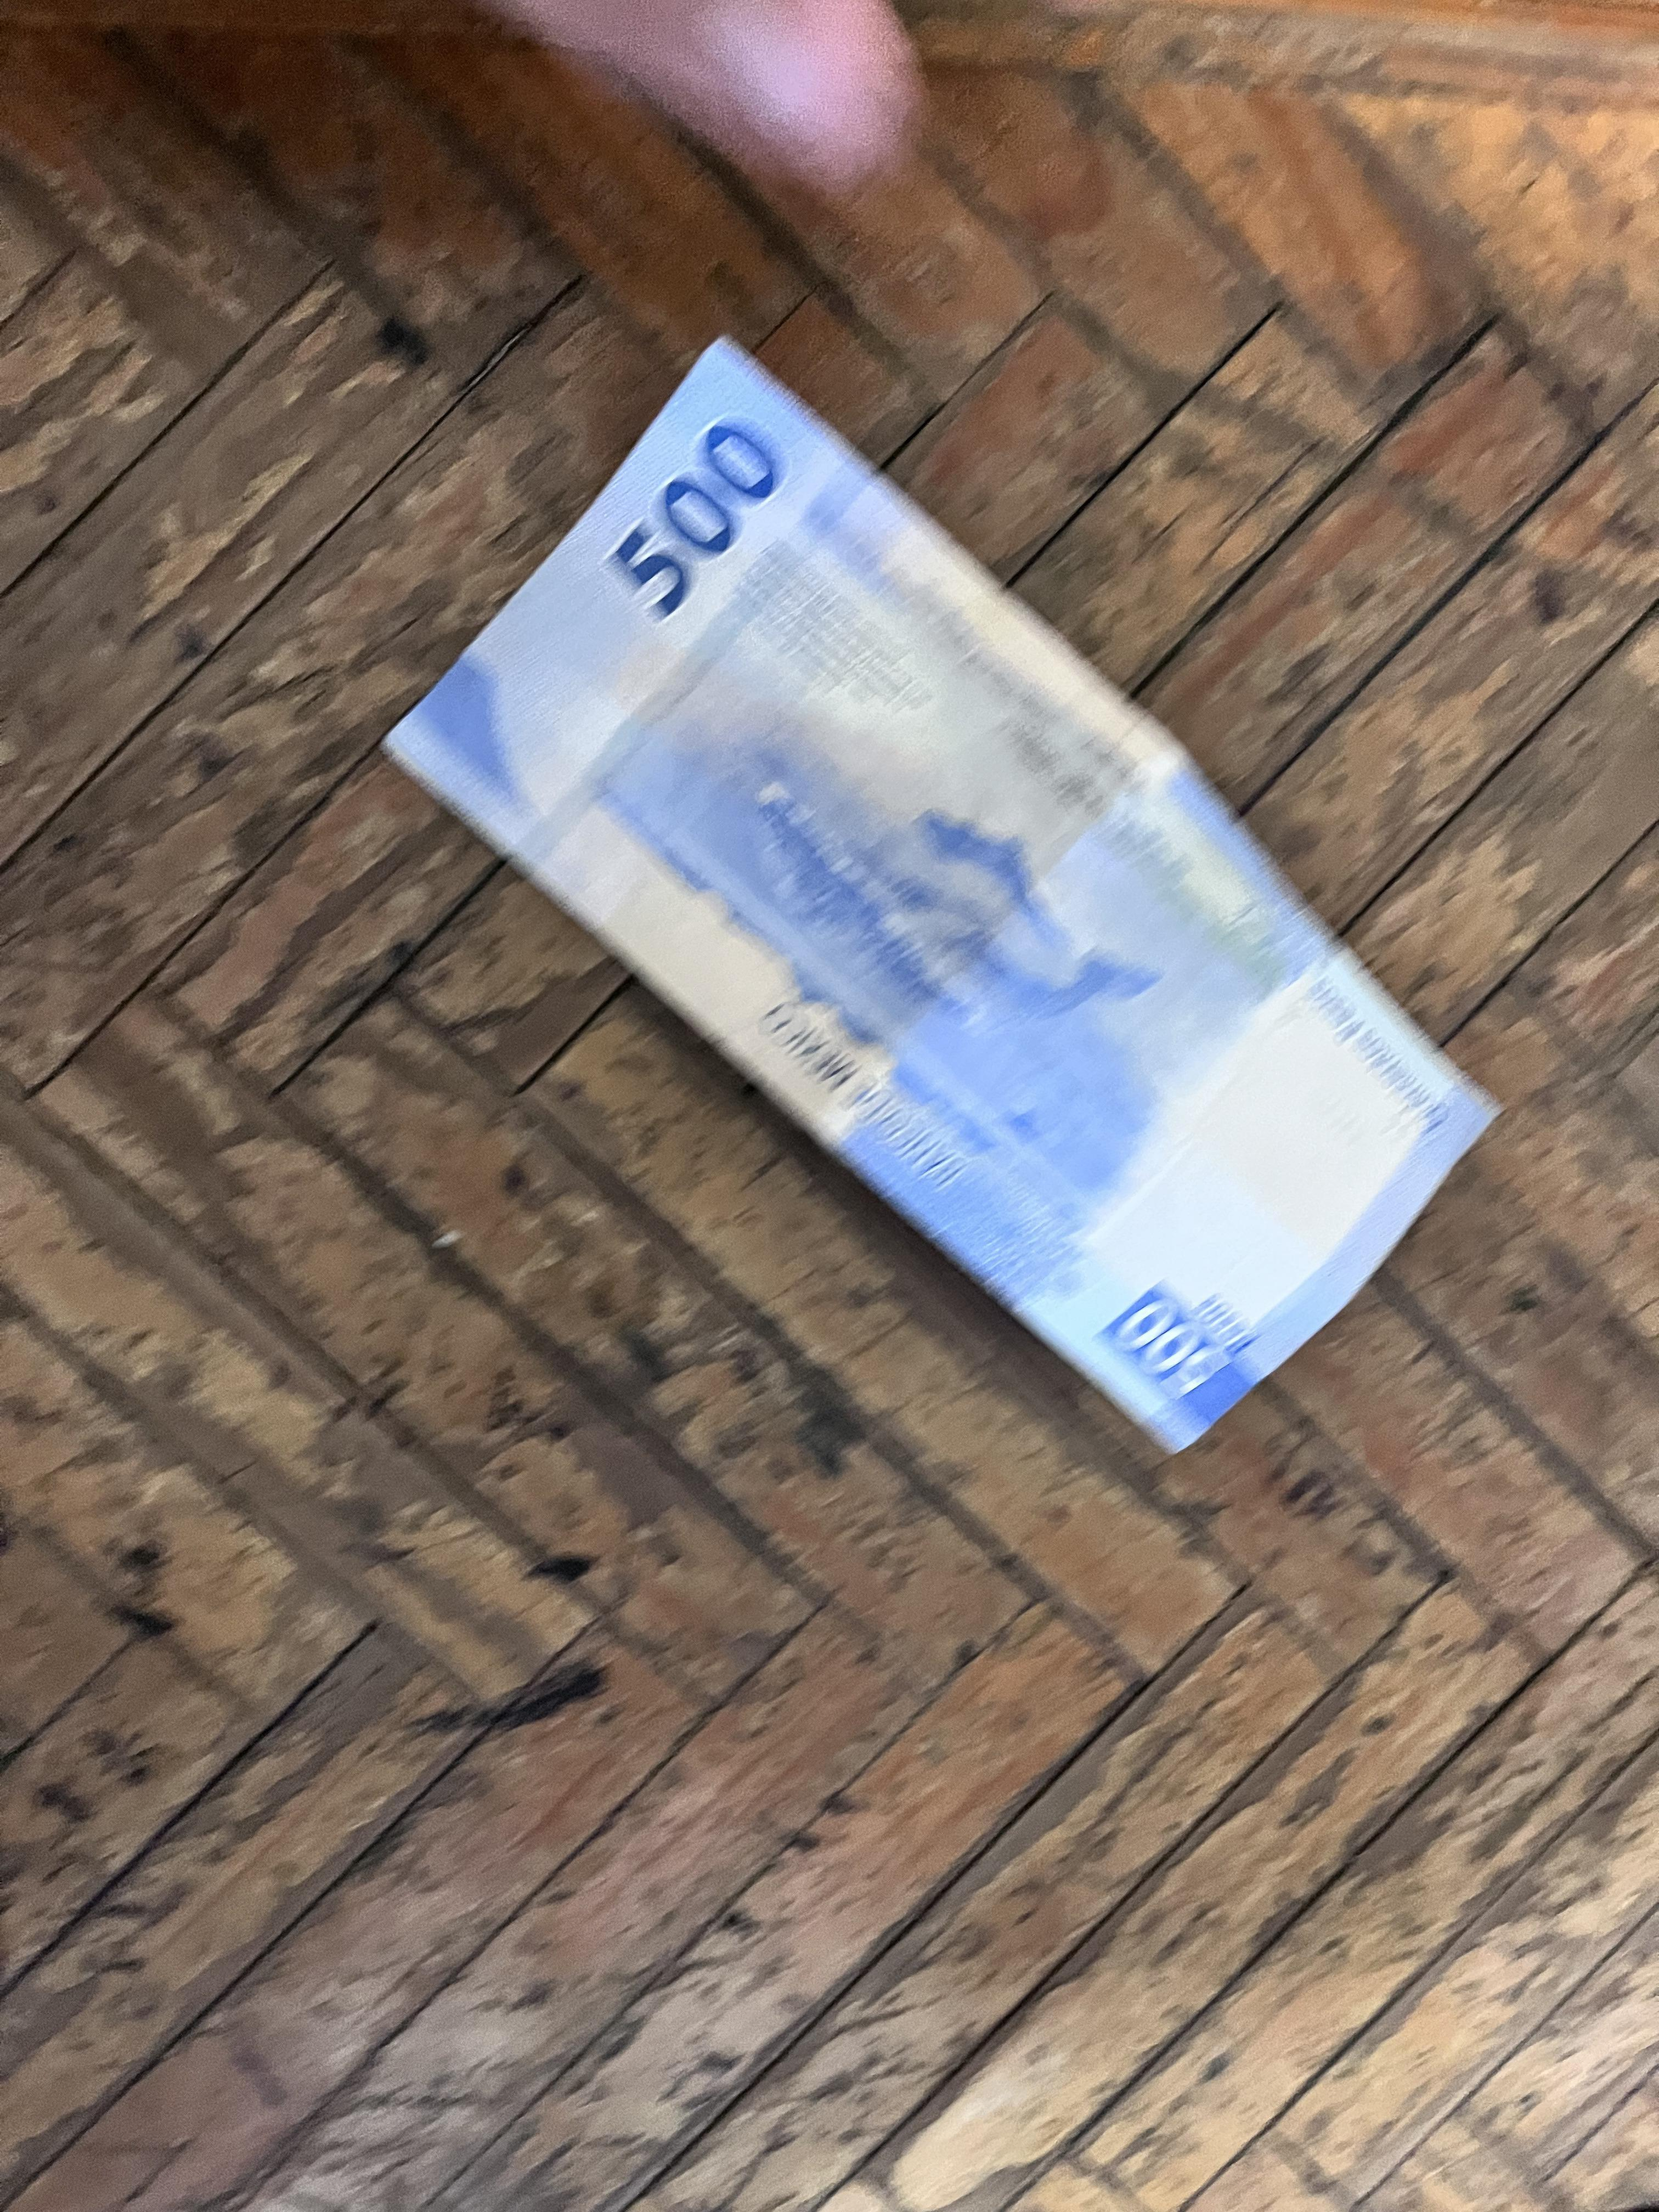500 nuevo: (364, 327, 1519, 1466)
